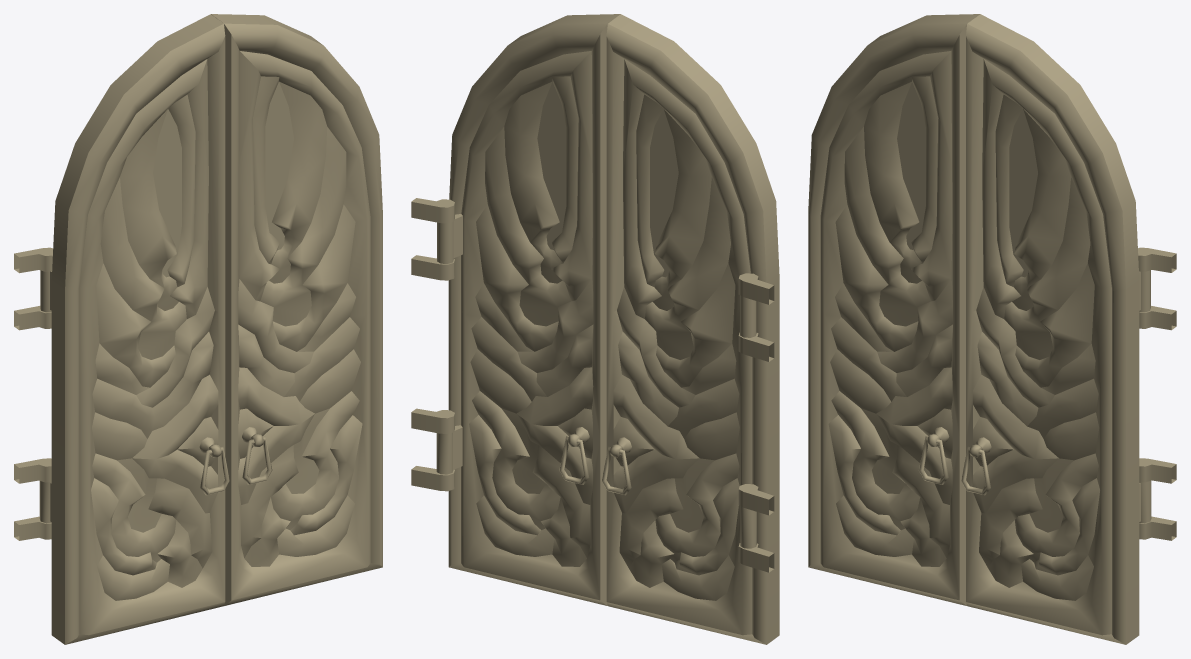
File: Shattered Front Door.fbx
3 renders of one model, left to right at view 1: azimuth 30°, elevation 25°; view 2: azimuth 150°, elevation 25°; view 3: azimuth 330°, elevation 25°, orthographic.
Parts seen in each view (by area): view 1: Rose_L_01; view 2: Rose_L_01; view 3: Rose_L_01.
Boxes of the visible parts, box(x1,y1,x2,y2) form: Rose_L_01: box(14, 14, 382, 644); Rose_L_01: box(411, 14, 779, 644); Rose_L_01: box(808, 14, 1176, 644).
Size of the model in its own units: 3.1 by 4.81 by 0.6984.
